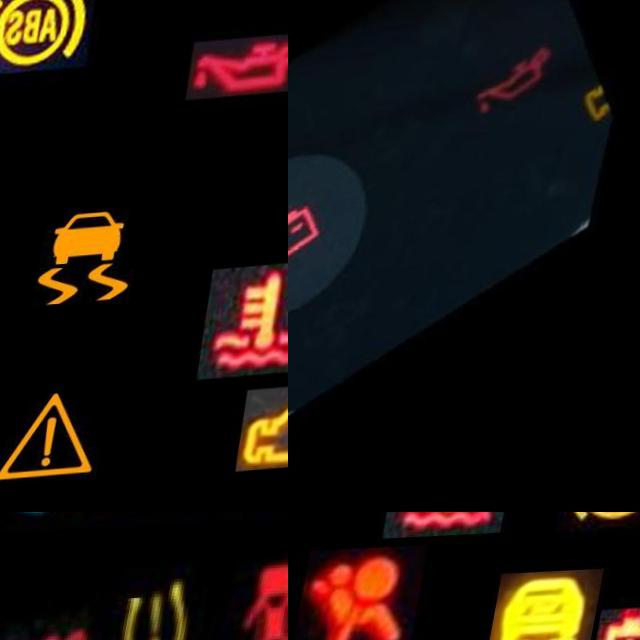Central Warning lamp: (2, 373, 142, 500)
Engine cooling system: (212, 262, 288, 382), (396, 512, 530, 541)
